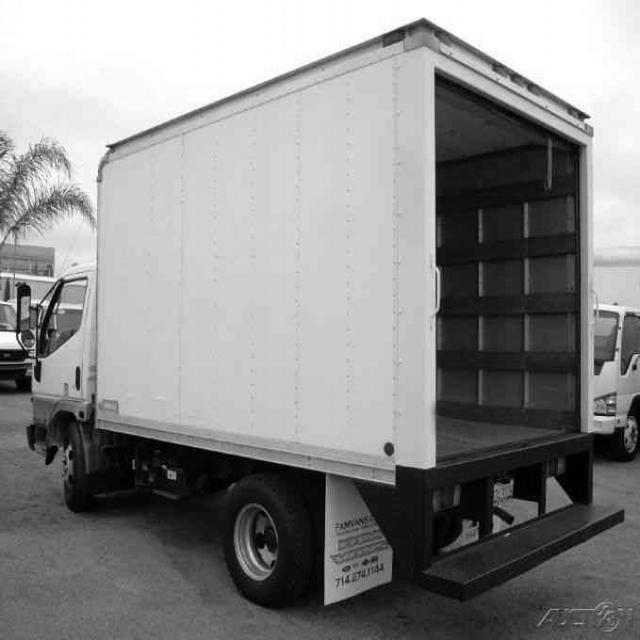truck: (10, 254, 118, 475)
